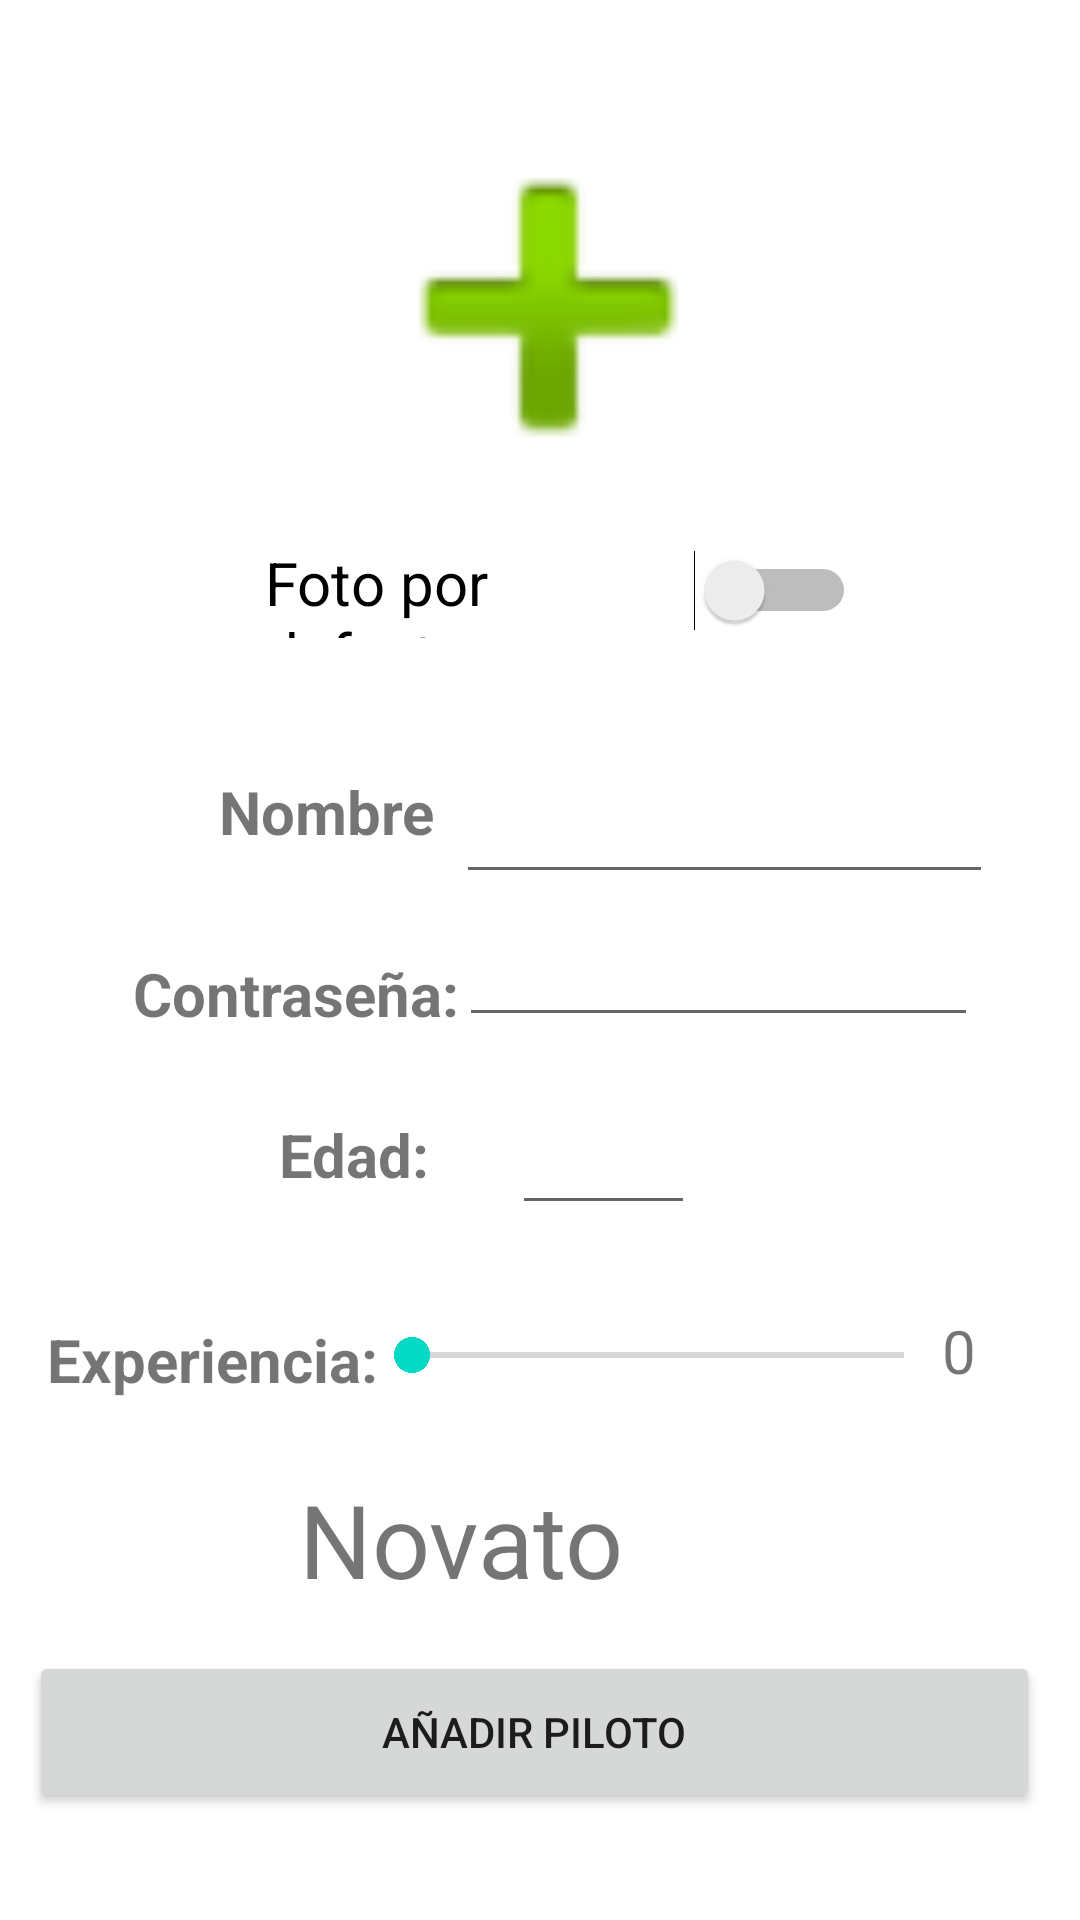

Named icons in this screenshot (1080*1920) and their centers, [x,y]:
add: [548,307]
